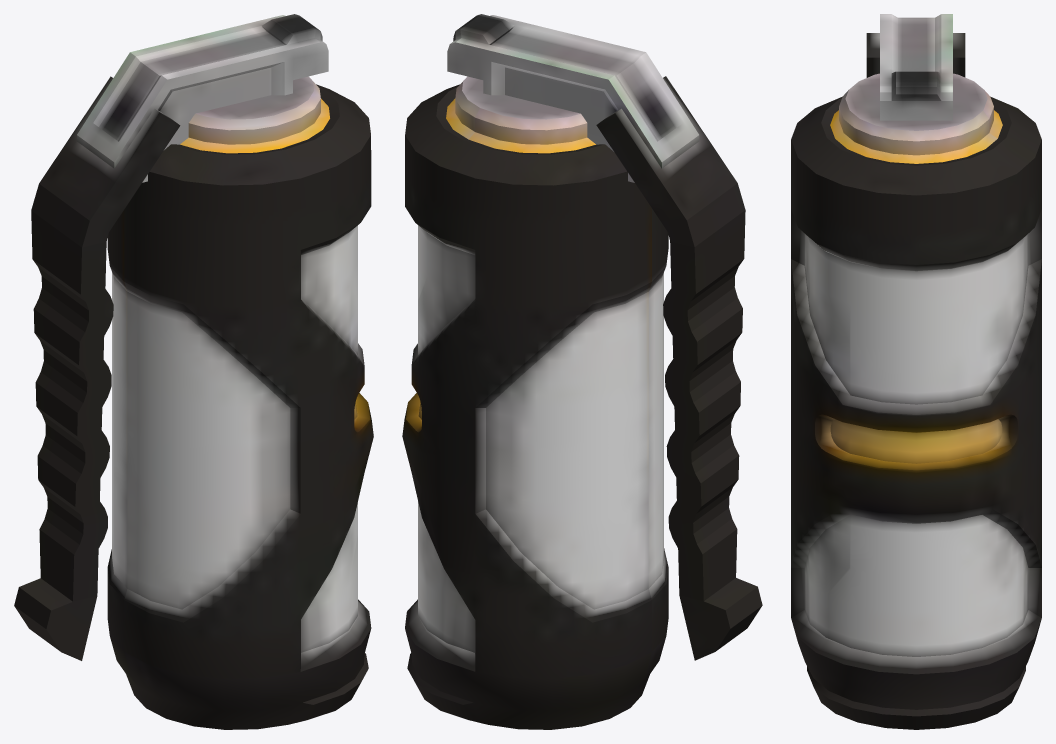
File: Grenade.glb
The picture shows the model from 3 angles, left to right: view 1: azimuth 30°, elevation 25°; view 2: azimuth 150°, elevation 25°; view 3: azimuth 270°, elevation 25°; orthographic projection. The views are drawn at different scales.
Visible parts, largest first — view 1: Prop_Grenade; view 2: Prop_Grenade; view 3: Prop_Grenade.
Part boxes in pixels (<box>): Prop_Grenade: <box>14,14,373,729</box>; Prop_Grenade: <box>402,14,762,729</box>; Prop_Grenade: <box>791,14,1041,729</box>.
Size of the model in its own units: 0.1272 by 0.2409 by 0.087.
Materials: 1 (1 with a texture image).
